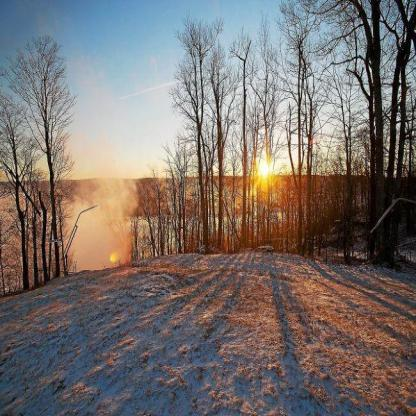other: (256, 155, 280, 190), (107, 250, 118, 267)
